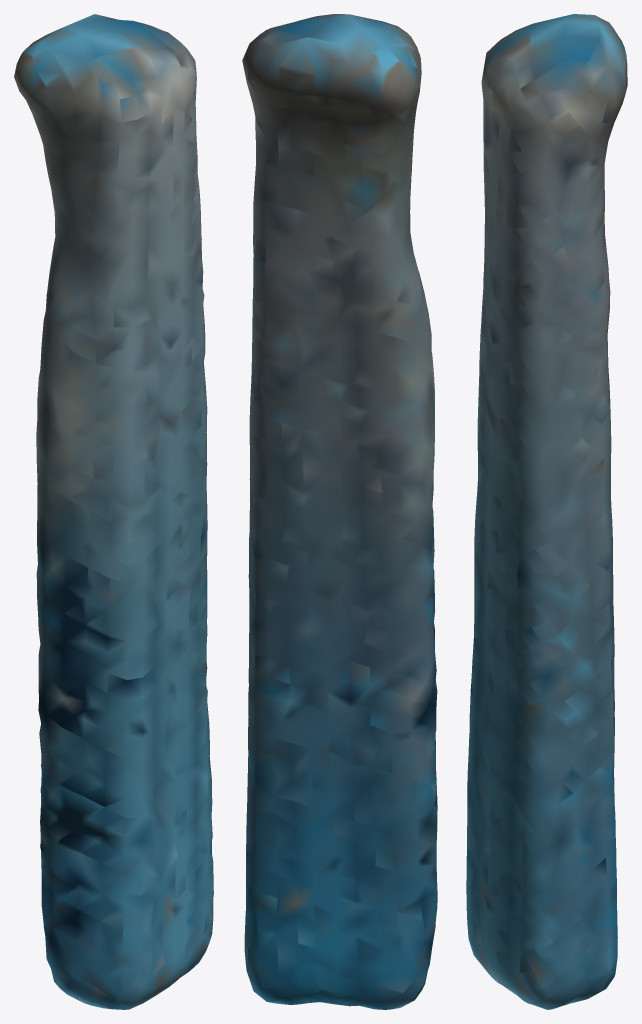
File: bar_new_egocentric.fbx
The picture shows the model from 3 angles, left to right: view 1: azimuth 30°, elevation 25°; view 2: azimuth 150°, elevation 25°; view 3: azimuth 270°, elevation 25°; orthographic projection. The views are drawn at different scales.
Parts seen in each view (by area): view 1: bar_new.001; view 2: bar_new.001; view 3: bar_new.001.
Part boxes in pixels (<box>): bar_new.001: <box>14,14,213,1009</box>; bar_new.001: <box>242,14,437,1009</box>; bar_new.001: <box>466,14,627,1009</box>.
Size of the model in its own units: 10.71 by 56.08 by 8.63.
